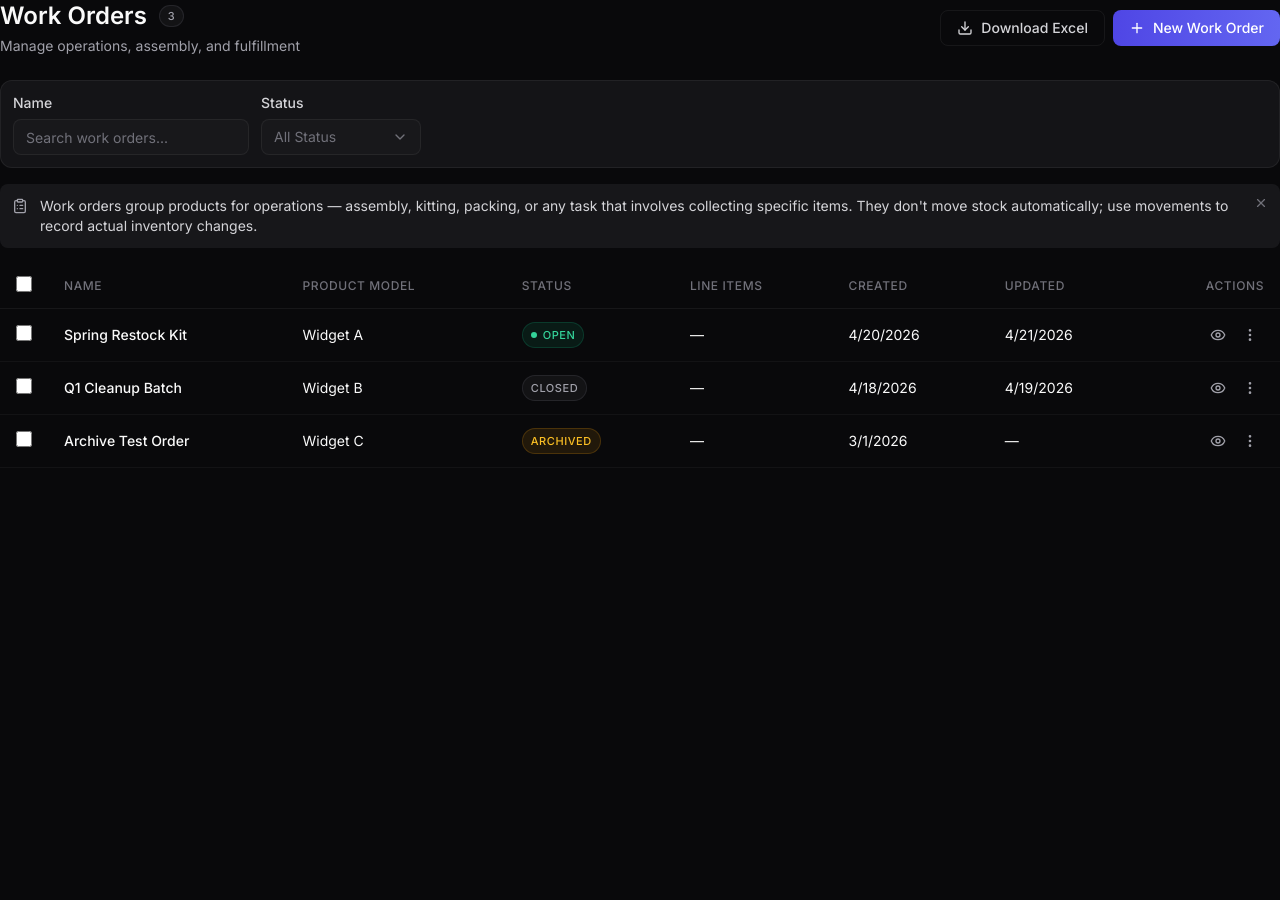
Test case: WorkOrderList bulk-delete flow › cancelling the cascade confirm aborts the delete
Click the checkbox named "Select Spring Restock Kit": (24,332) [16,324,32,340]
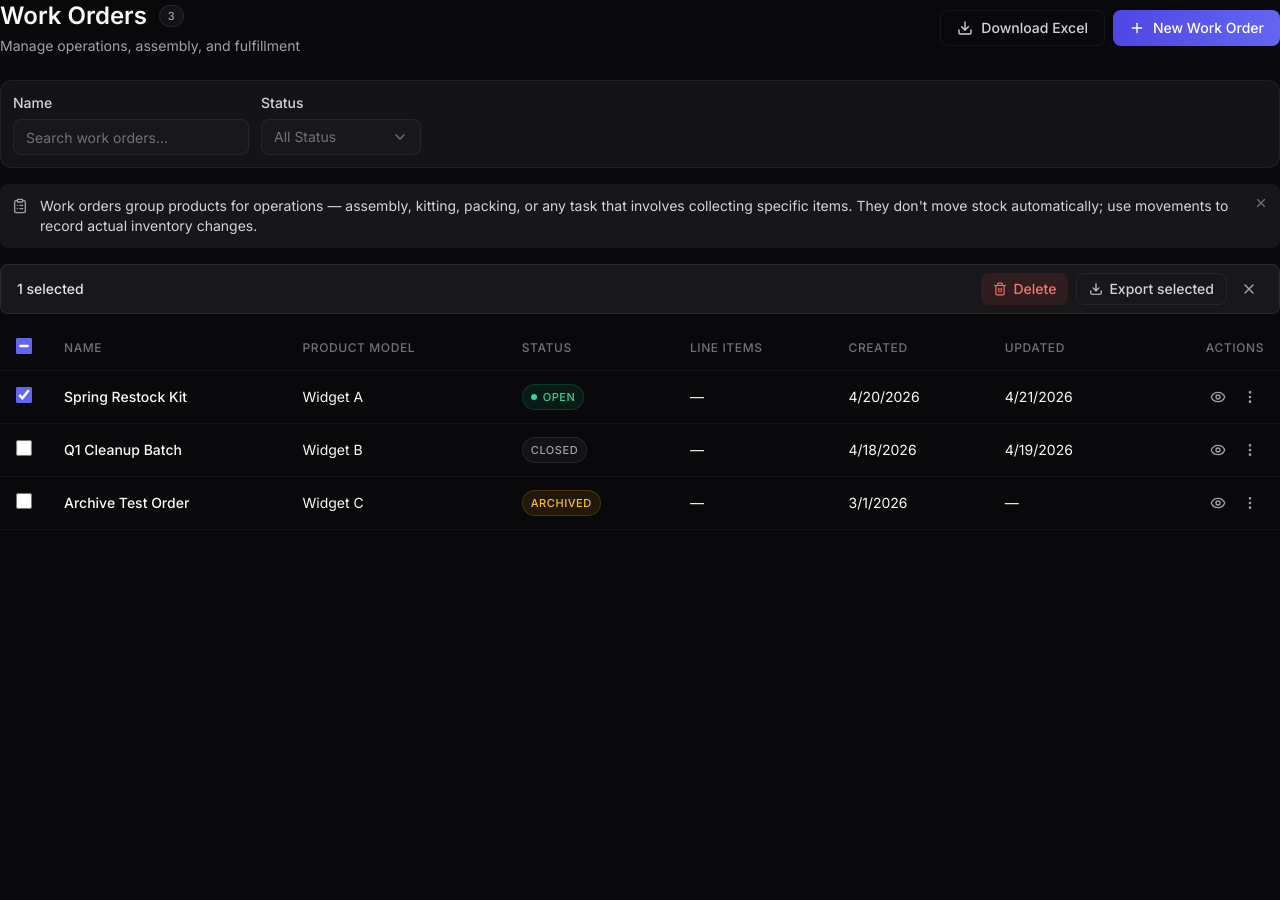
Click the button "Delete": (1025,289) [982,273,1068,305]
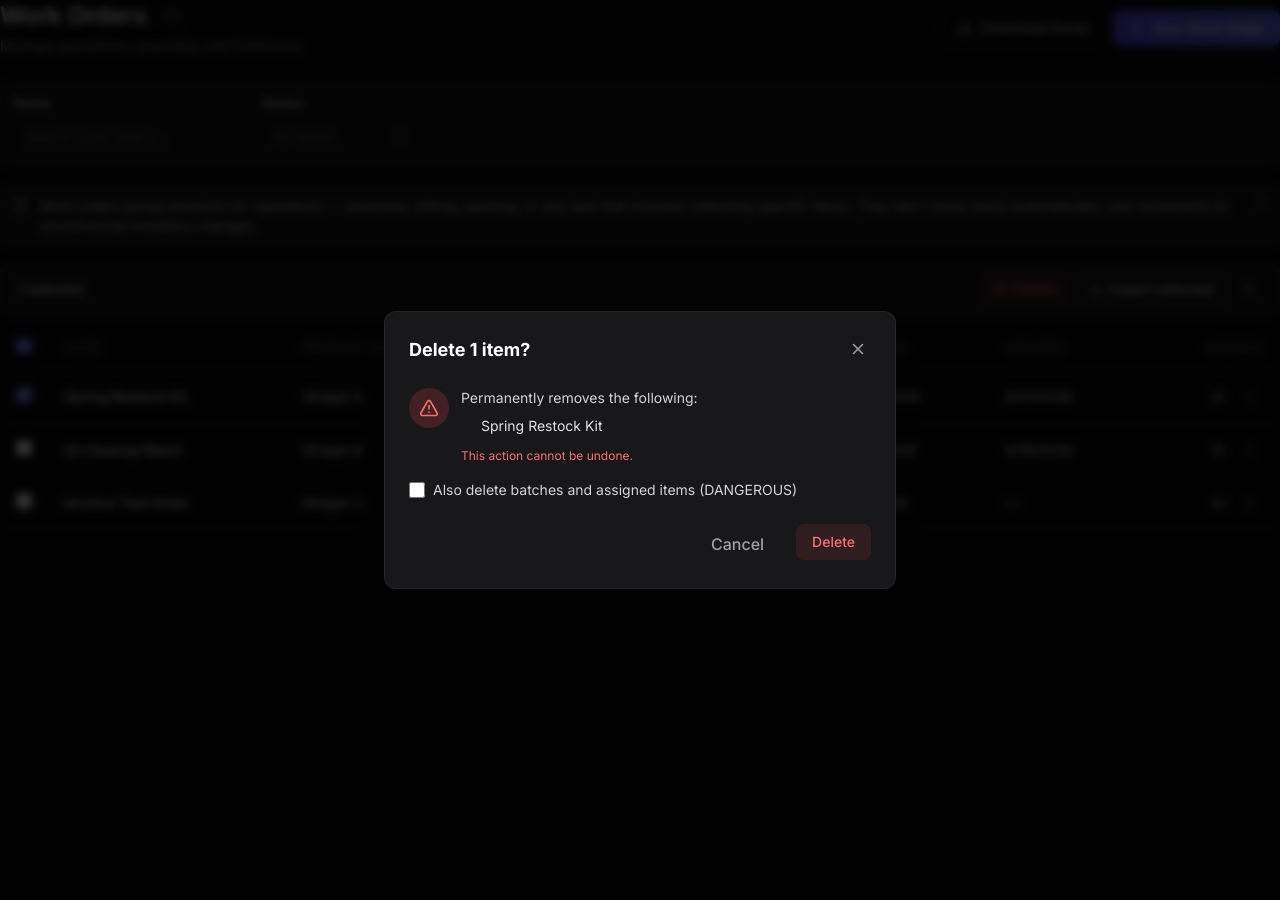
Click the checkbox: (417,490) [409,482,425,498]
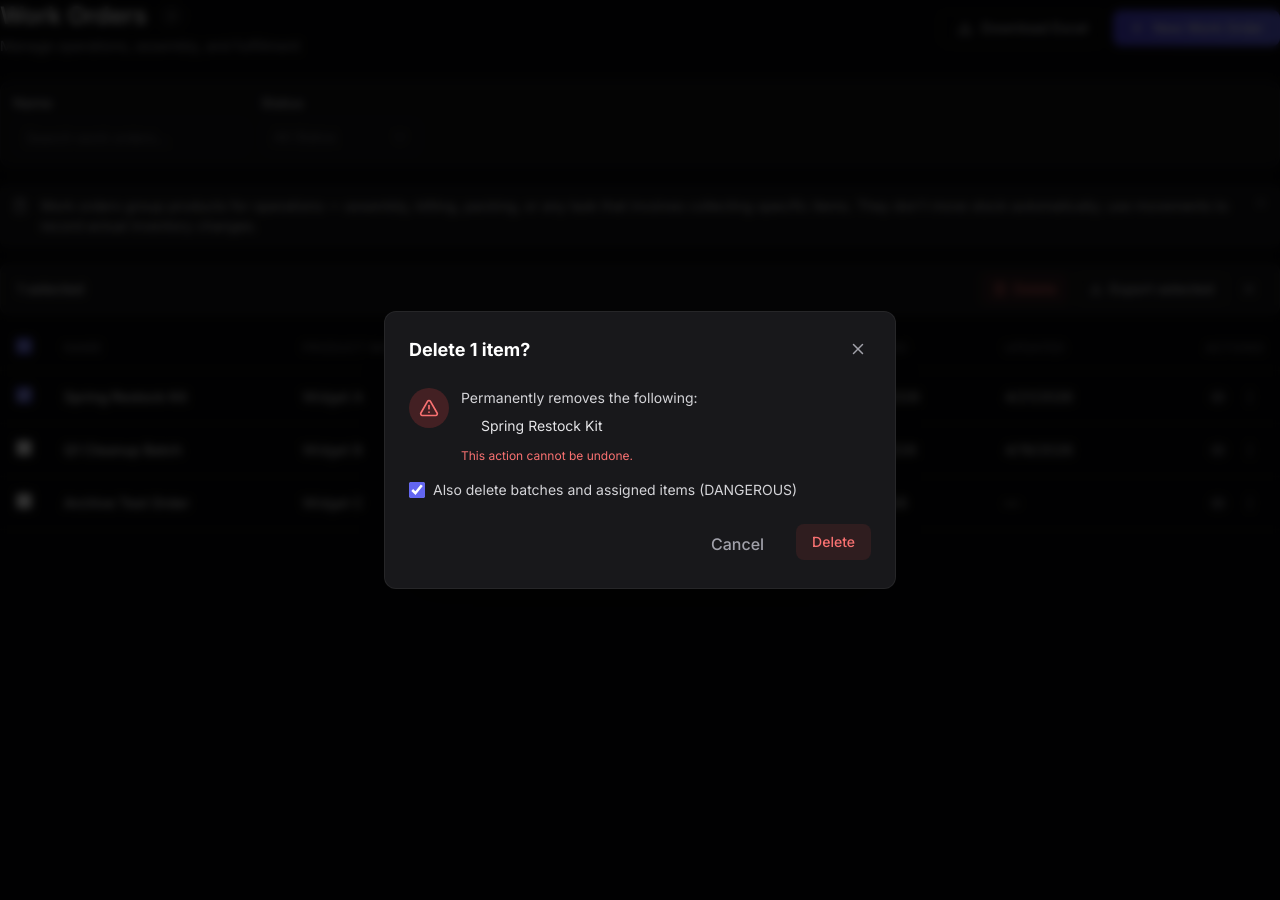
Click the button with test id "bulk-delete-confirm": (834,542) [796,524,871,560]
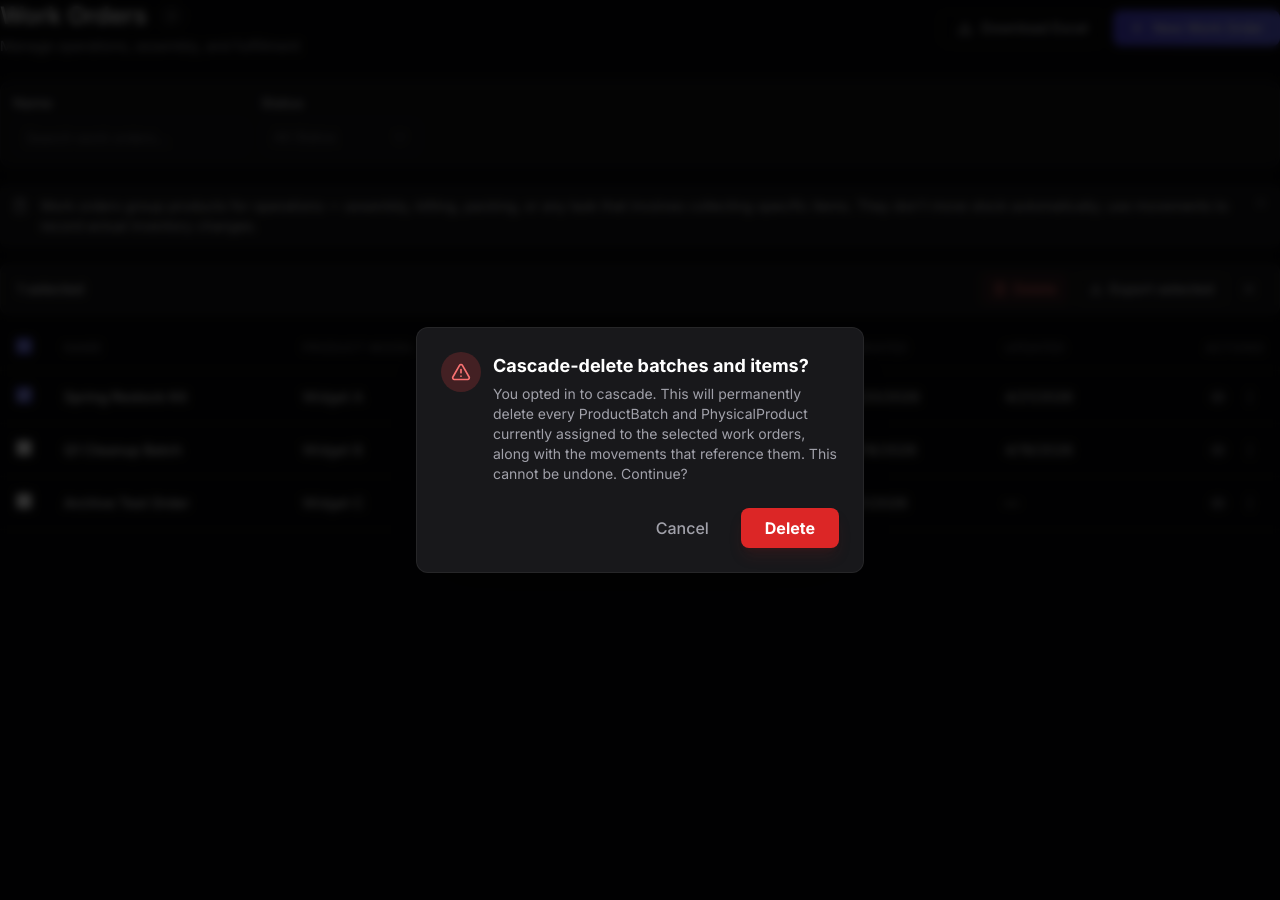
Click the button with test id "confirm-dialog-cancel": (682,528) [636,508,729,548]
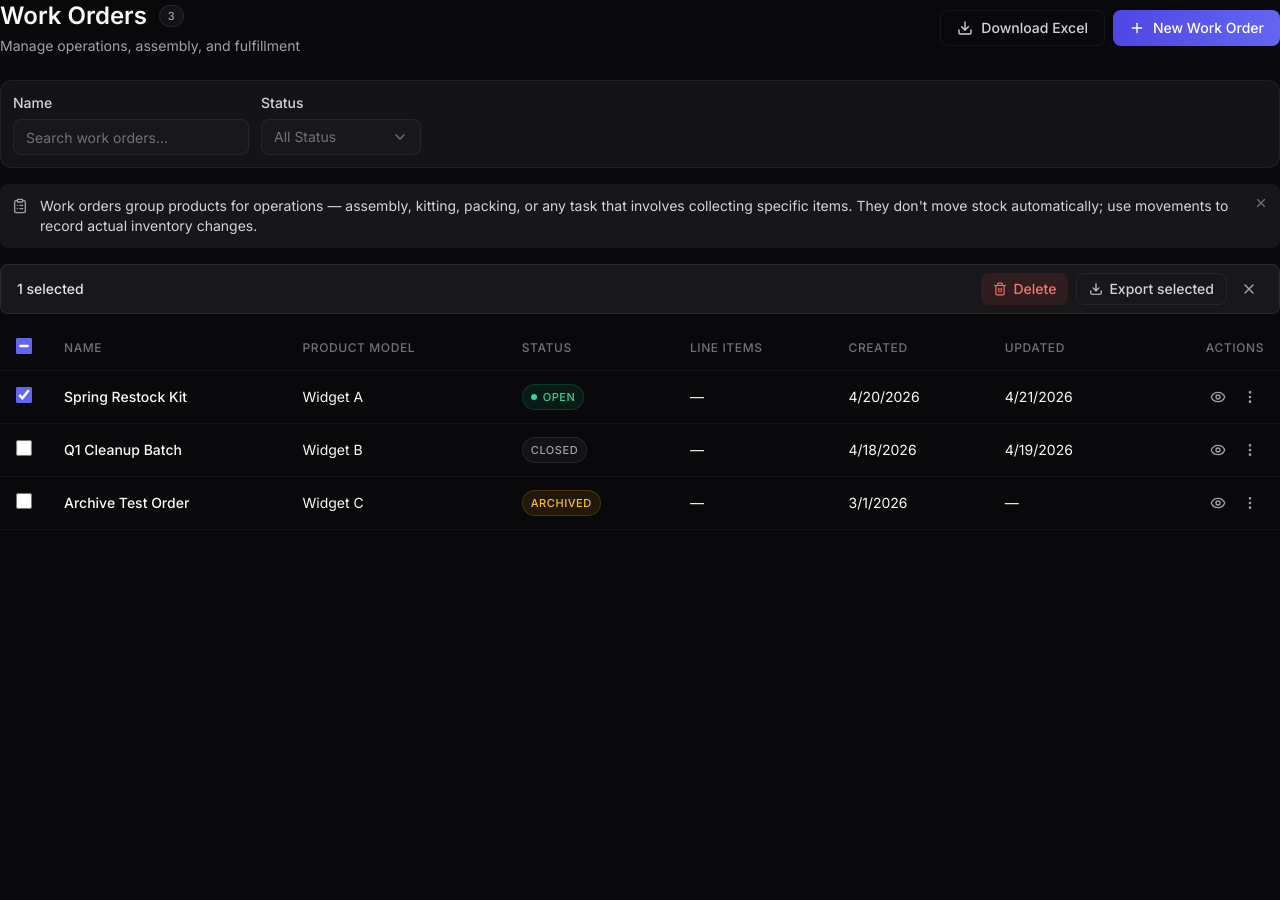
Expected: the element with test id "confirm-dialog" is gone
